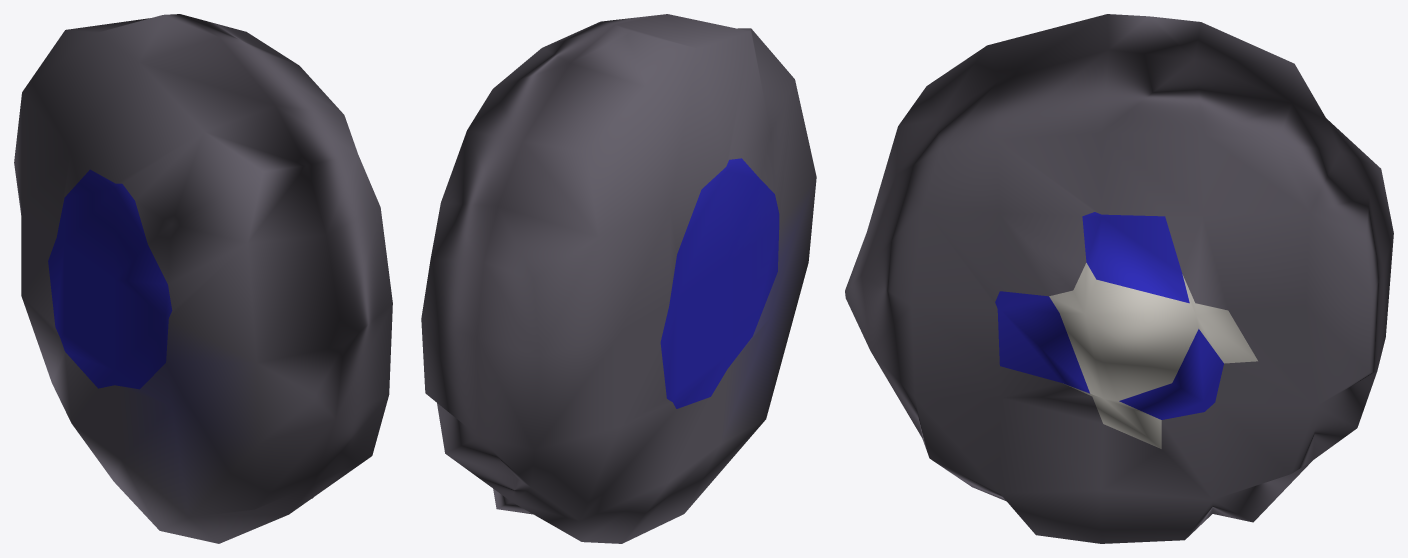
File: wheel_tread_lo.glb
The picture shows the model from 3 angles, left to right: view 1: azimuth 30°, elevation 25°; view 2: azimuth 150°, elevation 25°; view 3: azimuth 270°, elevation 25°; orthographic projection.
Parts seen in each view (by area): view 1: wheel_tread_lo; view 2: wheel_tread_lo; view 3: wheel_tread_lo.
Boxes of the visible parts, x1,y1,x2,y2 form: wheel_tread_lo: [14, 14, 392, 543]; wheel_tread_lo: [421, 14, 816, 543]; wheel_tread_lo: [845, 14, 1393, 543].
Size of the model in its own units: 7.03 by 14.14 by 14.13.
